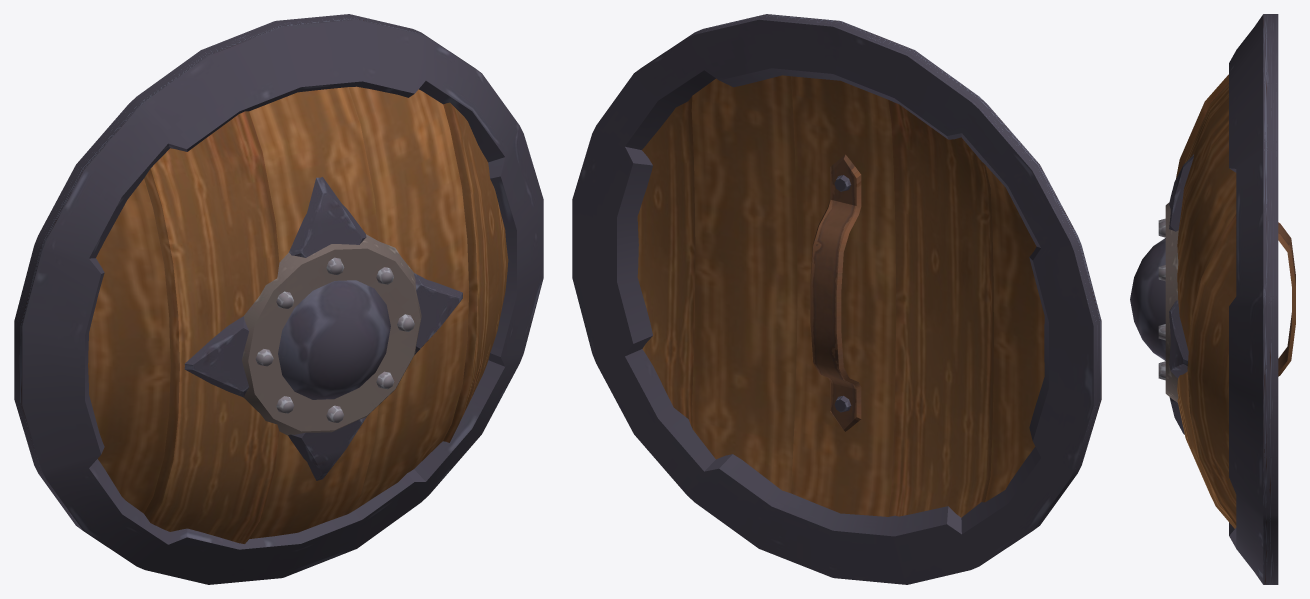
Rendered from Shield_Wooden.gltf.
3 views of the same model, side by side, from view 1: azimuth 30°, elevation 25°; view 2: azimuth 150°, elevation 25°; view 3: azimuth 270°, elevation 25° (orthographic). The views are drawn at different scales.
Parts seen in each view (by area): view 1: Shield_Wooden; view 2: Shield_Wooden; view 3: Shield_Wooden.
Boxes of the visible parts, x1,y1,x2,y2 form: Shield_Wooden: (14,14,543,584); Shield_Wooden: (572,14,1101,584); Shield_Wooden: (1130,14,1295,584).
Size of the model in its own units: 0.6146 by 0.6209 by 0.1788.
Materials: 3 (3 with a texture image).
